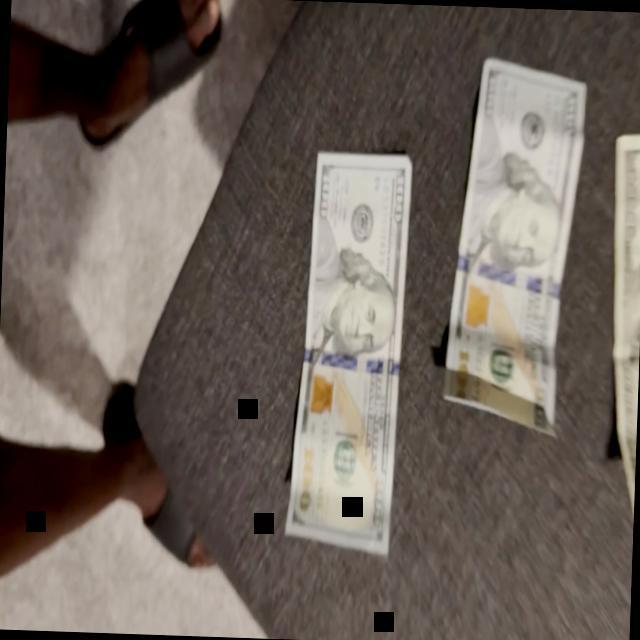hundred: (440, 55, 586, 441), (283, 151, 413, 559), (613, 133, 640, 517)
